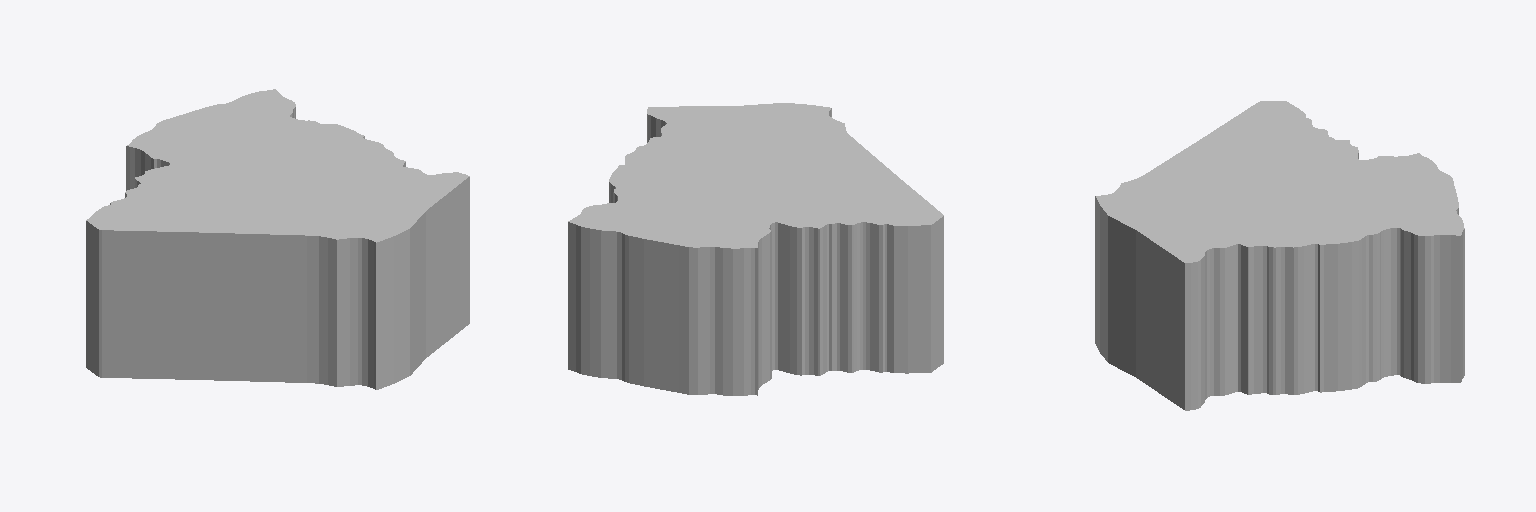
3 views of the same model, side by side, from view 1: azimuth 30°, elevation 25°; view 2: azimuth 150°, elevation 25°; view 3: azimuth 270°, elevation 25° (orthographic).
Visible parts, largest first — view 1: DZ.002_CUCurve.1872; view 2: DZ.002_CUCurve.1872; view 3: DZ.002_CUCurve.1872.
Boxes of the visible parts, x1,y1,x2,y2 form: DZ.002_CUCurve.1872: [86, 89, 469, 389]; DZ.002_CUCurve.1872: [568, 103, 943, 395]; DZ.002_CUCurve.1872: [1095, 101, 1464, 410].
Size of the model in its own units: 0.1181 by 0.05 by 0.1134.